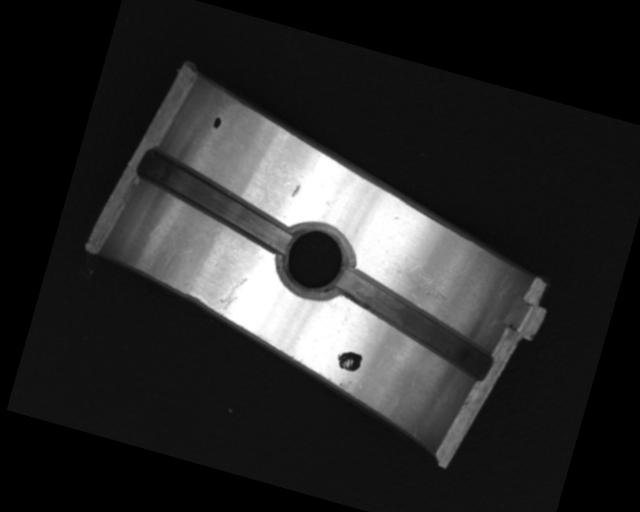blot: (333, 347, 364, 373), (210, 115, 223, 130)
bruise: (290, 182, 301, 199)
gap: (325, 264, 505, 380), (128, 147, 303, 253)
hole: (269, 216, 360, 304)
nick: (216, 271, 249, 319)
scratch: (387, 255, 460, 309)
